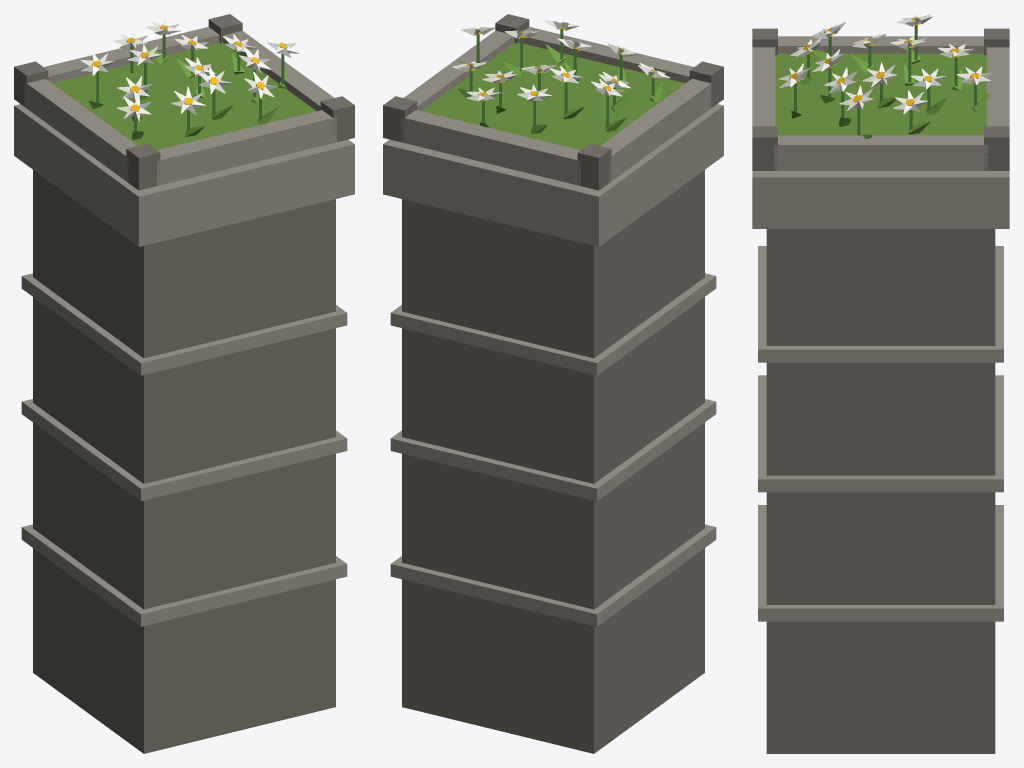
The model's file is decor_daisies.glb.
3 renders of one model, left to right at view 1: azimuth 30°, elevation 25°; view 2: azimuth 150°, elevation 25°; view 3: azimuth 270°, elevation 25°, orthographic. The views are drawn at different scales.
Parts seen in each view (by area): view 1: decor_daisies; view 2: decor_daisies; view 3: decor_daisies.
Part boxes in pixels (x1=…): decor_daisies: x1=14, y1=14, x2=354, y2=753; decor_daisies: x1=383, y1=14, x2=723, y2=753; decor_daisies: x1=752, y1=14, x2=1009, y2=753.
Size of the model in its own units: 1.8 by 5.09 by 1.8.
